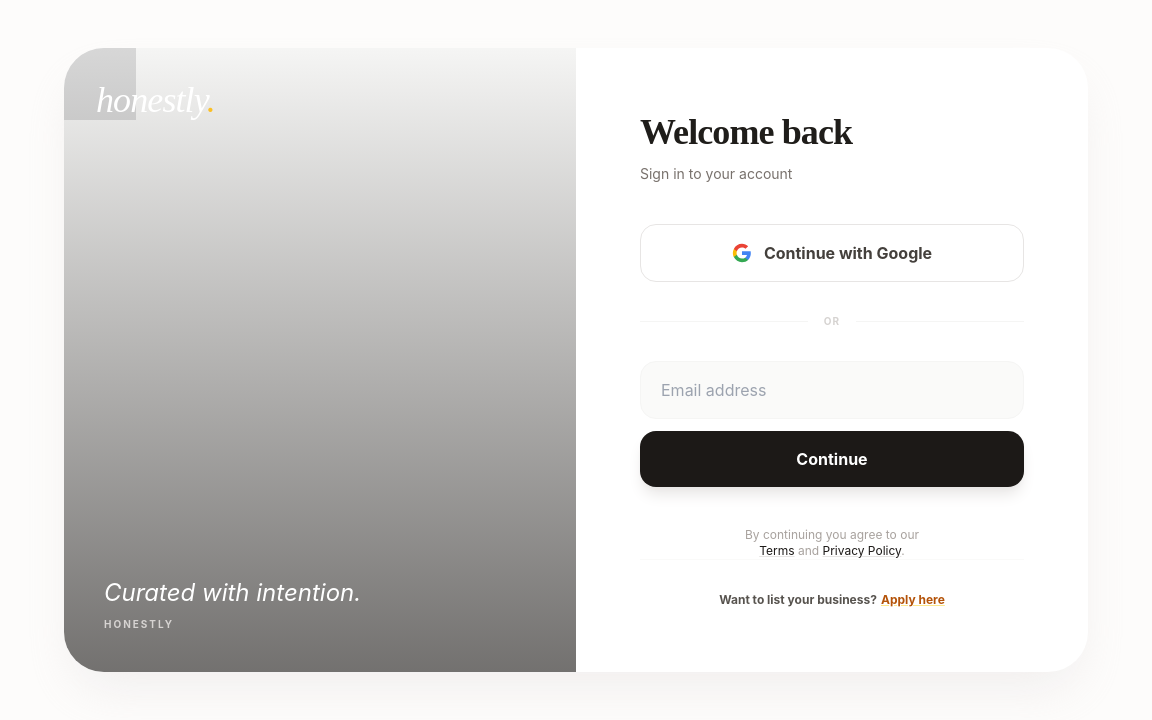
AuthScreen › shows auth errors from the provider helpers
This screenshot has width=1152, height=720.
Click the button "Continue with Google". click: (832, 253)
box: [640, 224, 1024, 282]
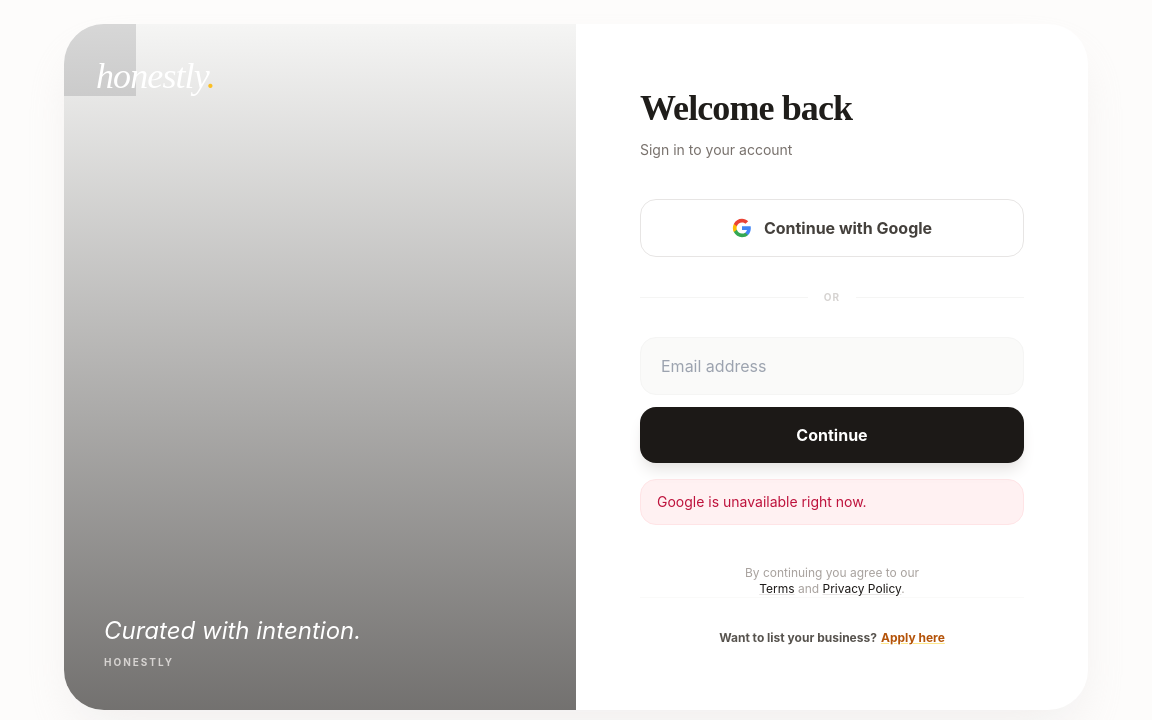
Now the text "Google is unavailable right now." is shown, box [640, 479, 1024, 525]
